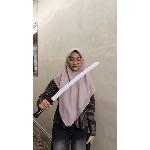Pedang: (39, 57, 107, 112)
